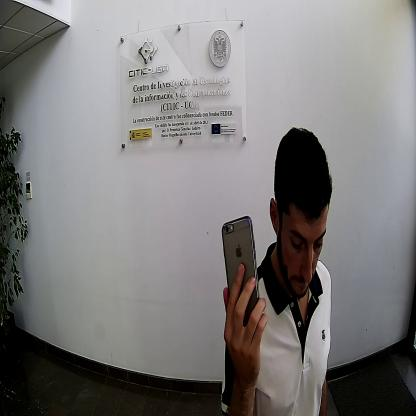smartphone: (221, 215, 260, 327)
